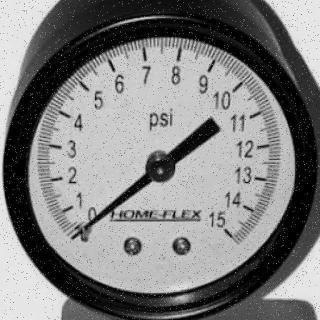gauge: (0, 0, 320, 320), (145, 153, 177, 185), (70, 216, 97, 244), (213, 217, 239, 245), (67, 226, 84, 244)
